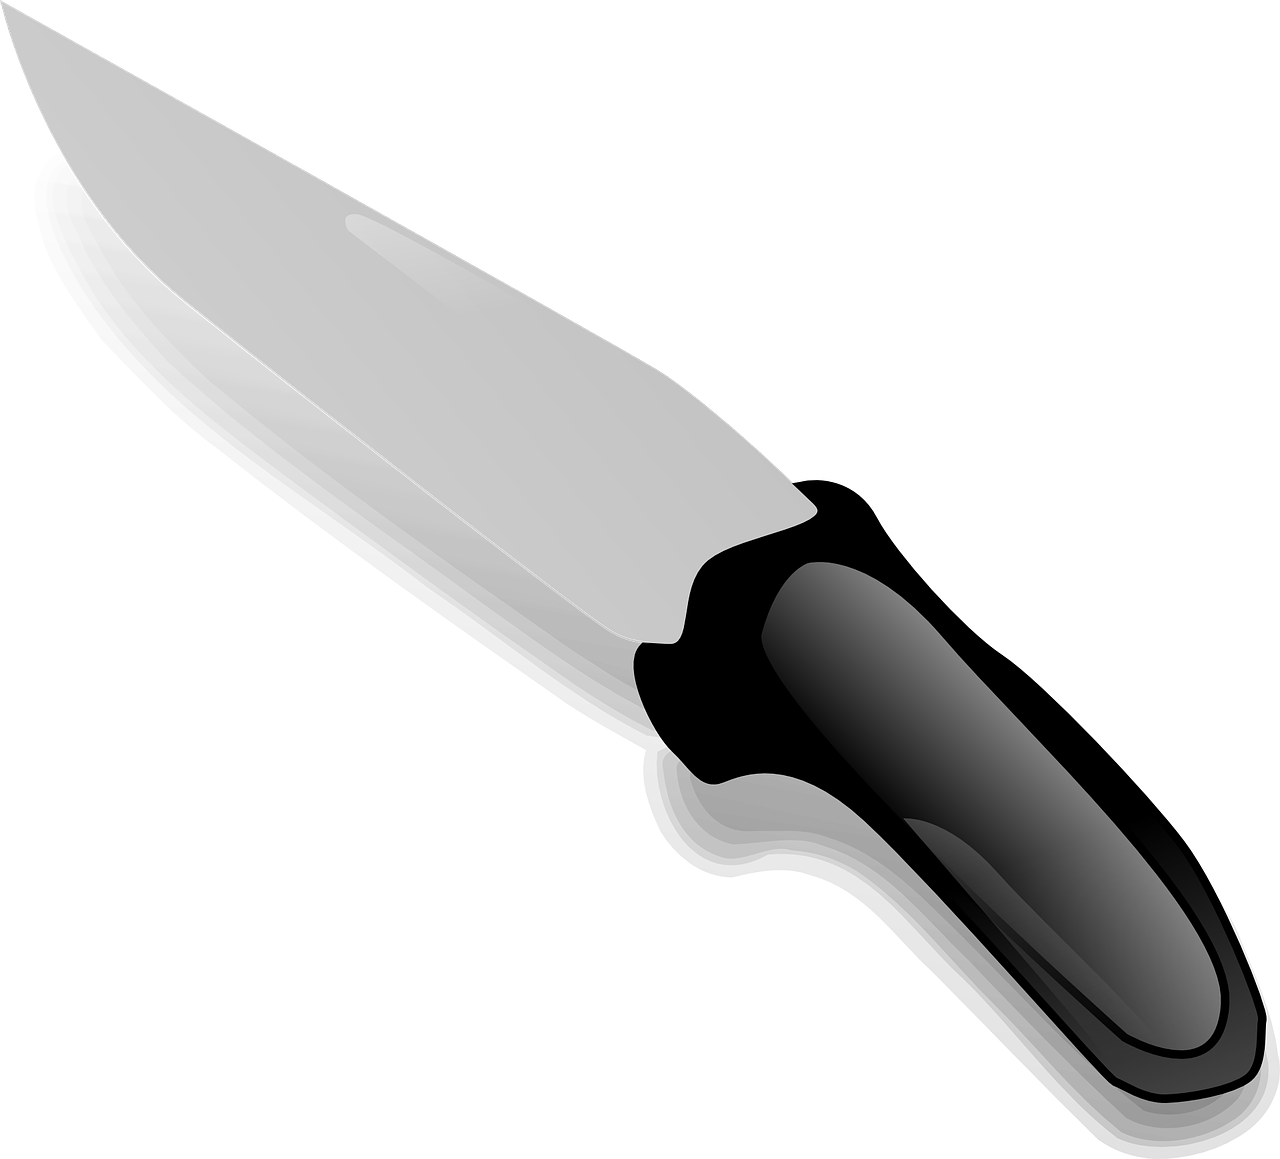knife: (0, 0, 1249, 1100), (543, 37, 1232, 647)
